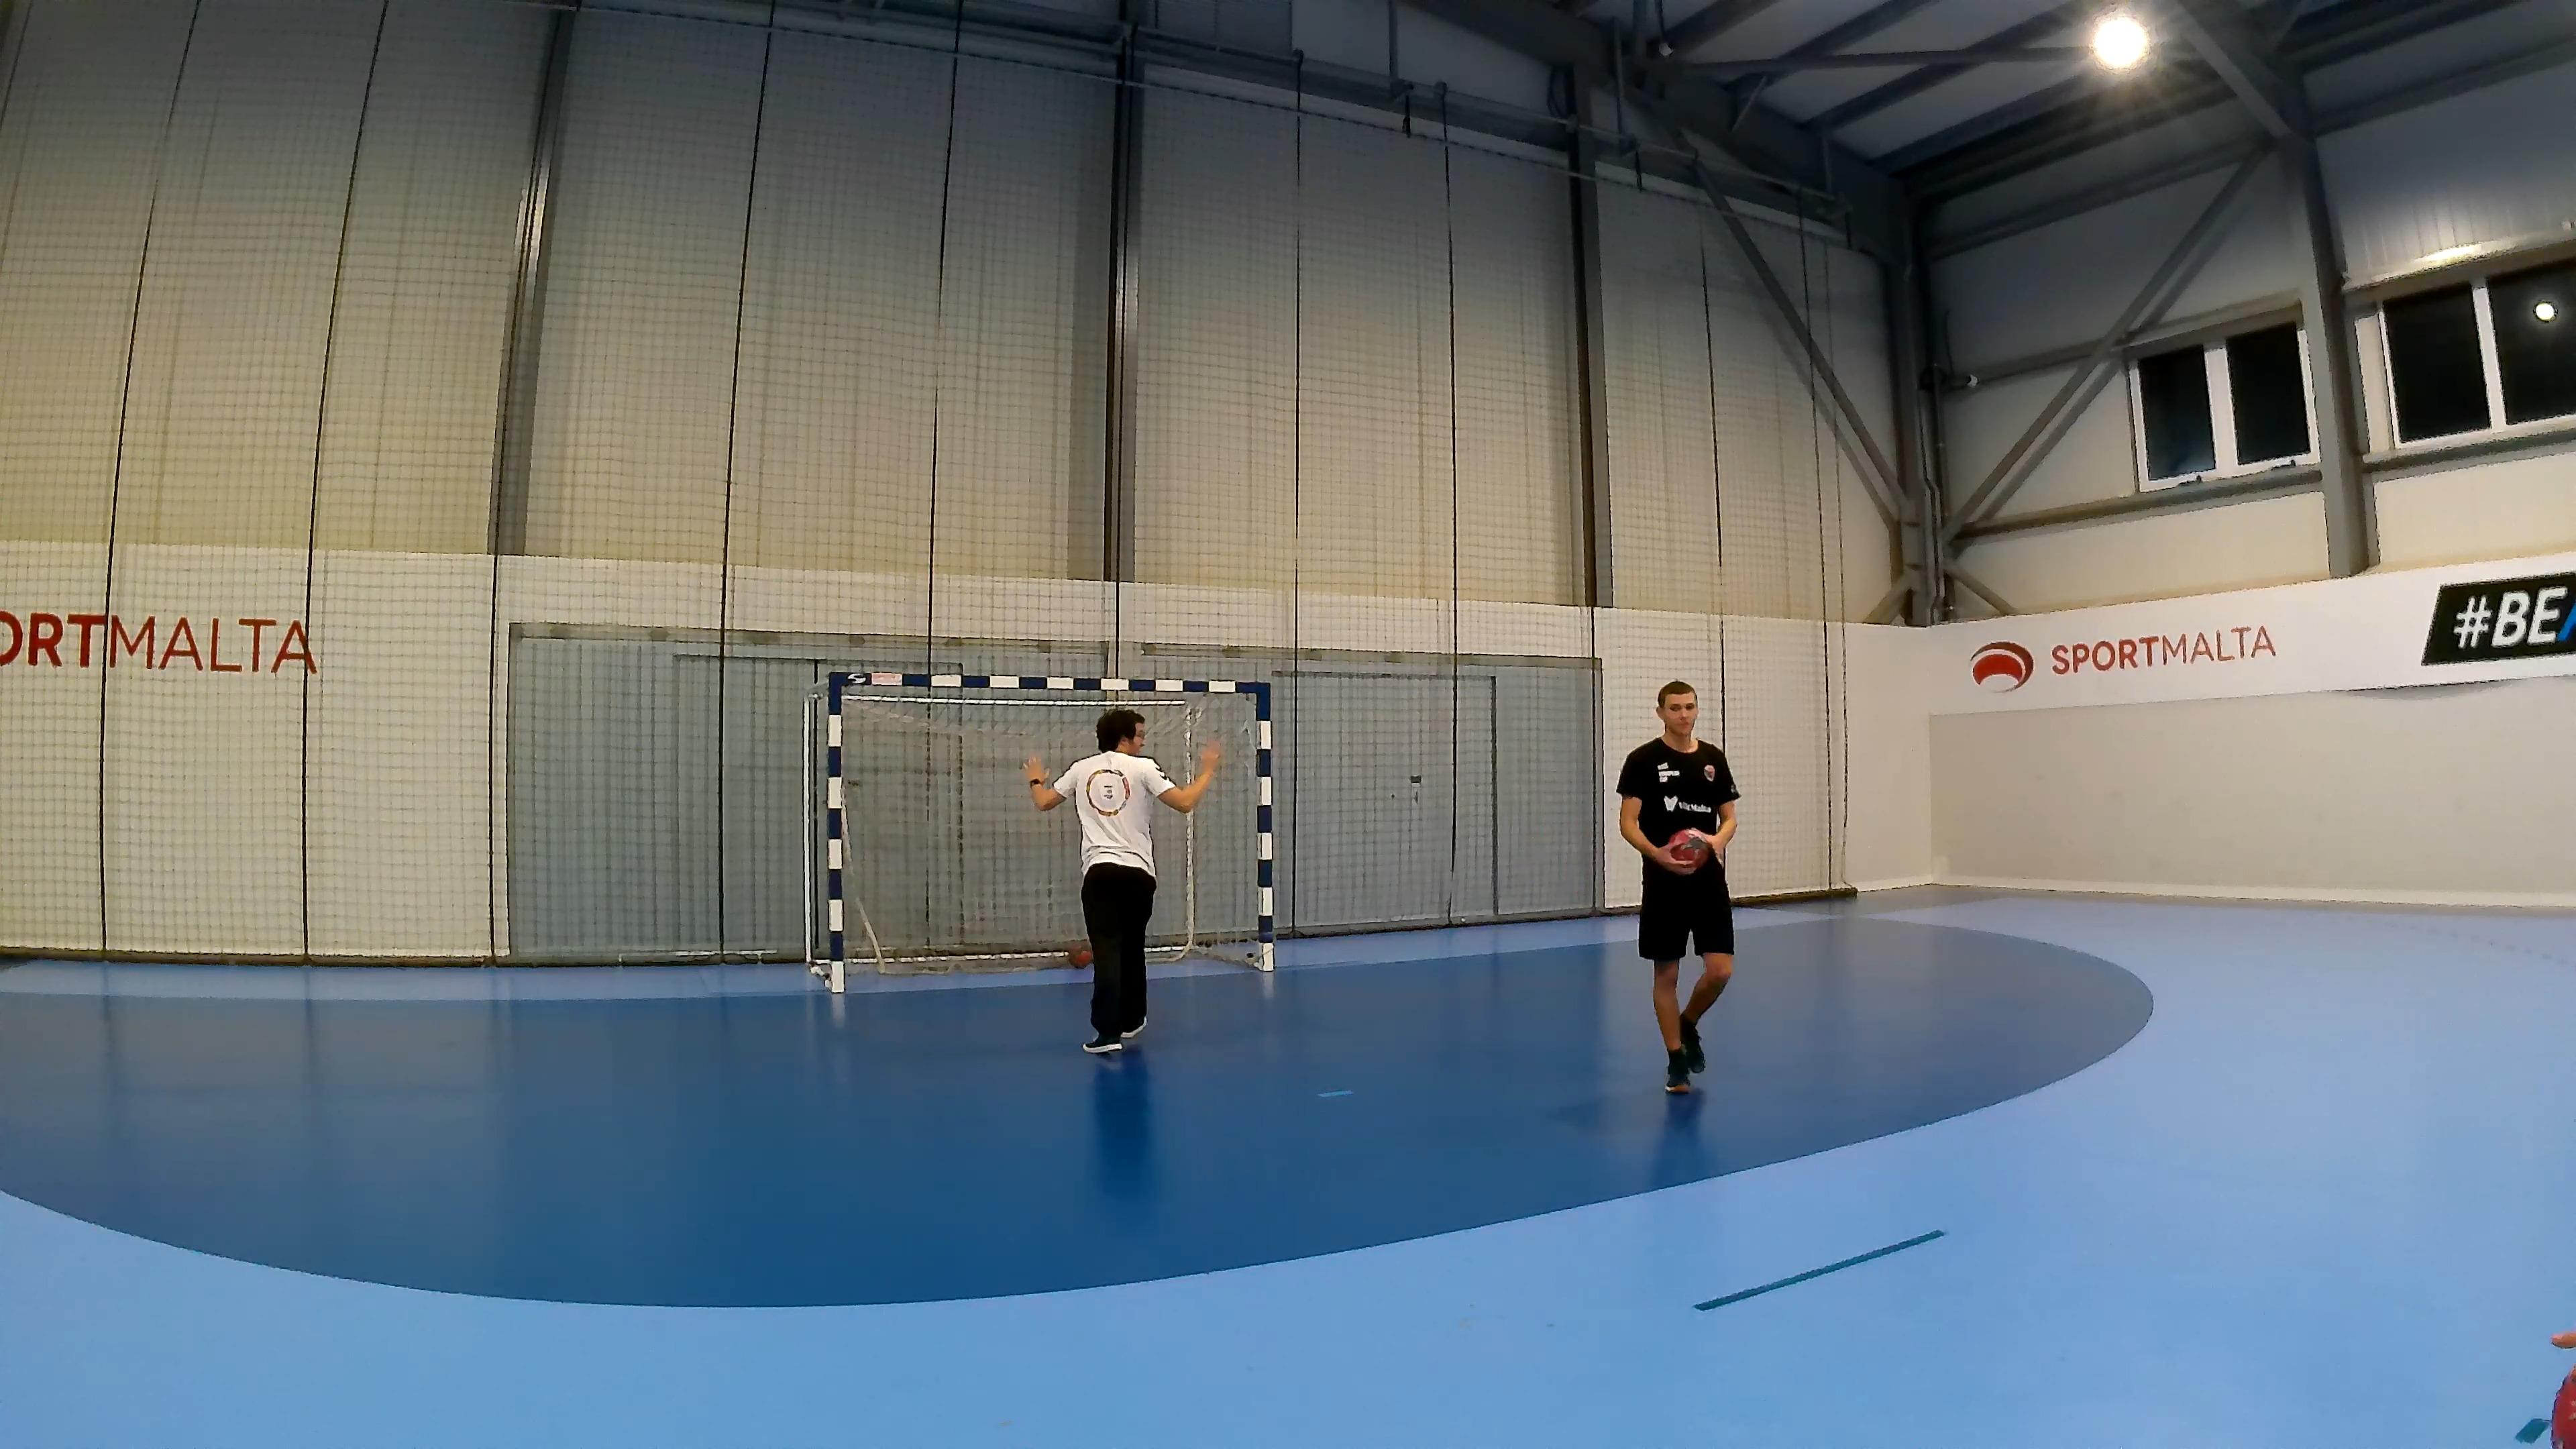handball: (1667, 823, 1713, 883), (1067, 939, 1093, 971)
